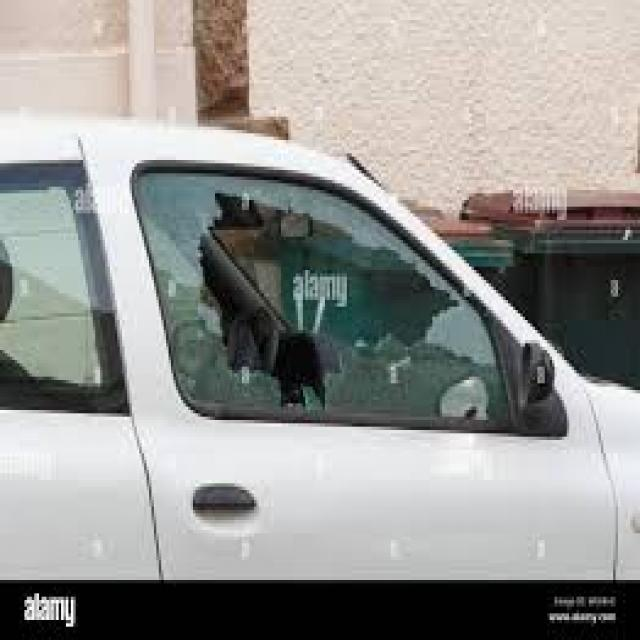damaged-window: (120, 152, 535, 434)
